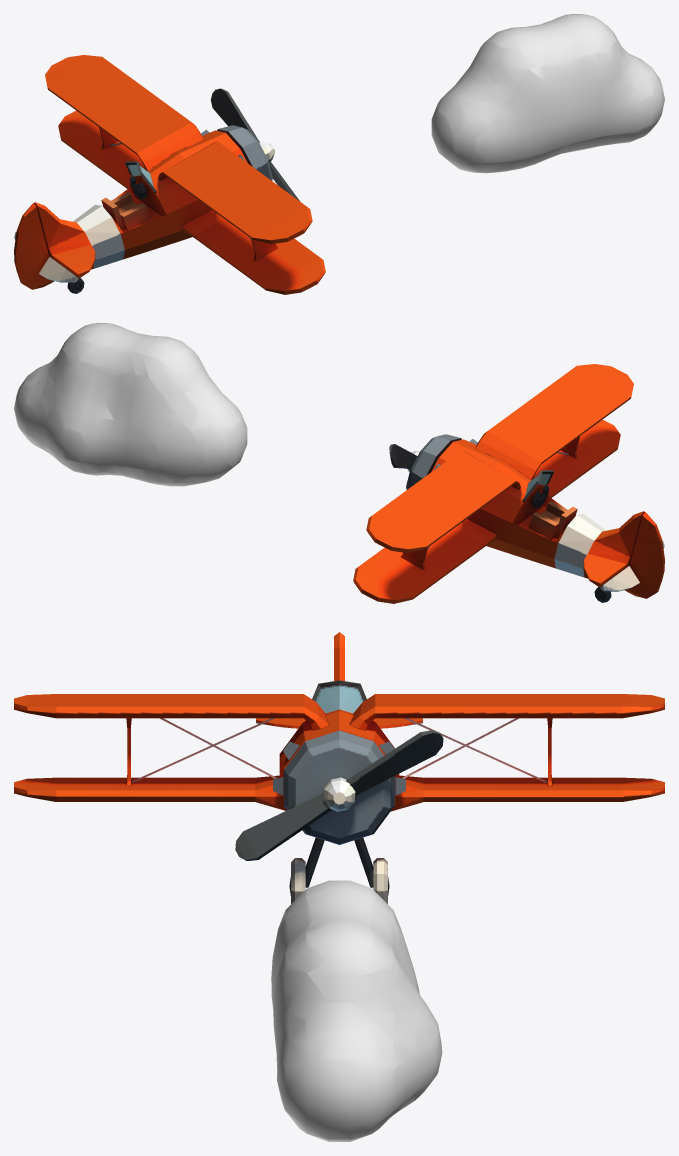
The model's file is gltfsforreact.glb.
The picture shows the model from 3 angles, top to bottom: view 1: azimuth 30°, elevation 25°; view 2: azimuth 150°, elevation 25°; view 3: azimuth 270°, elevation 25°; orthographic projection. The views are drawn at different scales.
Parts seen in each view (by area): view 1: Plane, Mball.008, Helix; view 2: Plane, Mball.008, Helix; view 3: Plane, Mball.008, Helix.
Boxes of the visible parts, <box> form: Plane: <box>14,55,325,294</box>; Mball.008: <box>431,14,664,173</box>; Helix: <box>211,88,300,201</box>; Plane: <box>353,364,664,603</box>; Mball.008: <box>14,323,247,486</box>; Helix: <box>389,444,419,471</box>; Plane: <box>14,632,664,903</box>; Mball.008: <box>271,880,442,1141</box>; Helix: <box>235,730,443,860</box>.
Size of the model in its own units: 5.96 by 1.35 by 3.78.
Materials: 1 (1 with a texture image).
